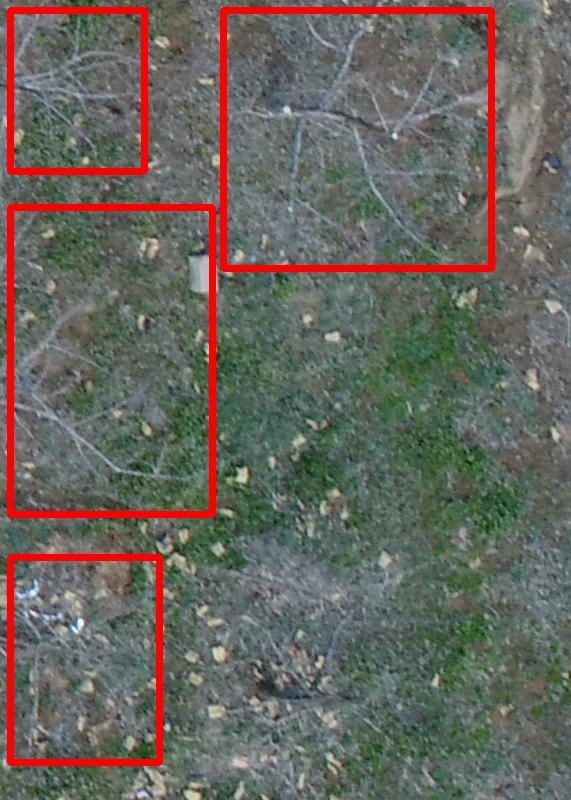apple: (223, 10, 491, 268), (10, 207, 212, 514), (10, 557, 159, 762), (10, 10, 144, 171)
